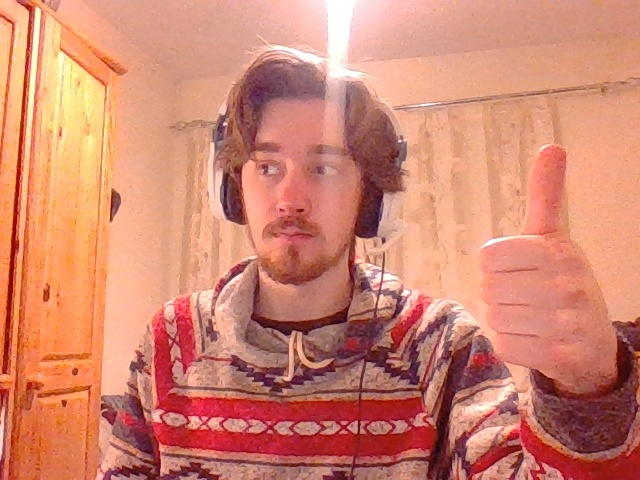good: (479, 146, 617, 374)
